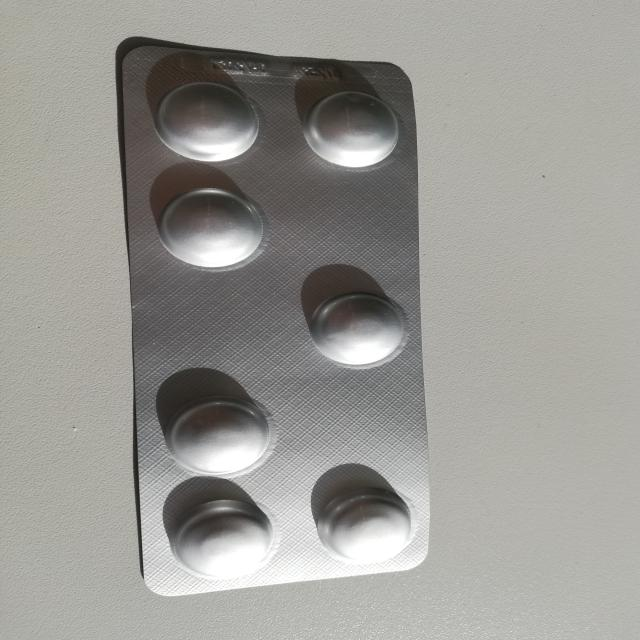Pill: (143, 74, 261, 165), (146, 185, 272, 266), (293, 85, 411, 171), (158, 397, 280, 478), (300, 292, 419, 371), (167, 504, 283, 578), (317, 493, 424, 567)
